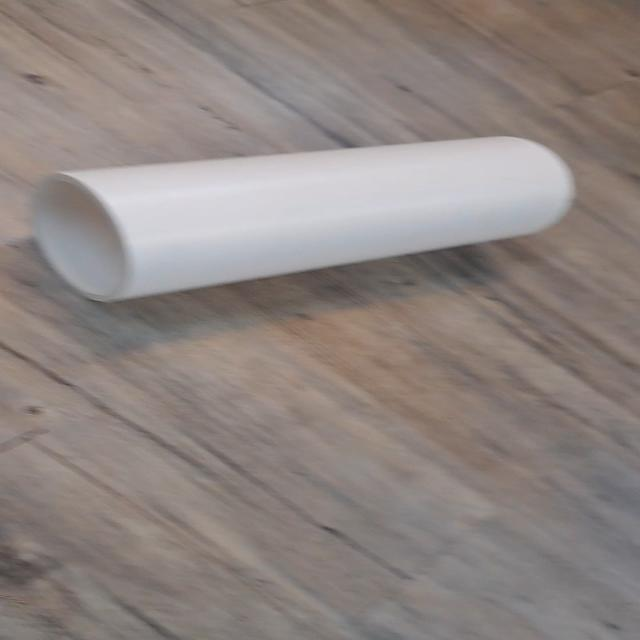CORAL: (30, 132, 580, 300)
